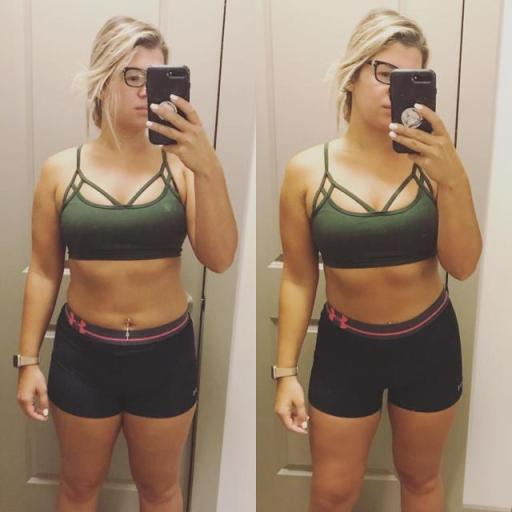Under Armour: (323, 299, 350, 332), (67, 311, 90, 335)
